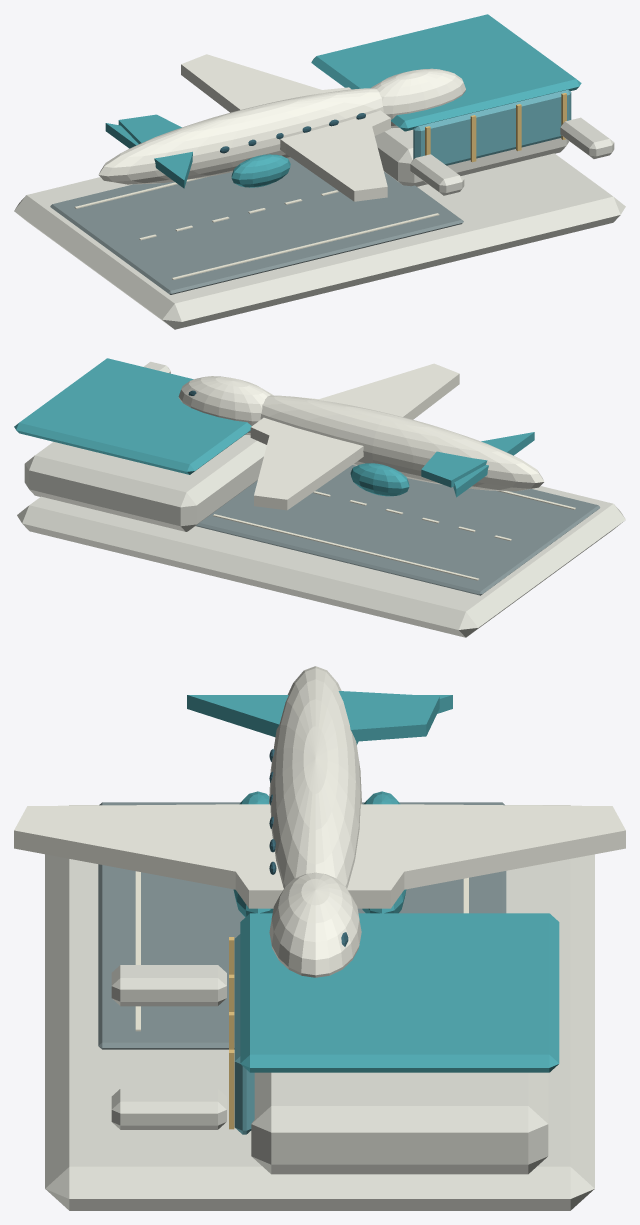
File: world-tour-airport.glb
The picture shows the model from 3 angles, top to bottom: view 1: azimuth 30°, elevation 25°; view 2: azimuth 150°, elevation 25°; view 3: azimuth 270°, elevation 25°; orthographic projection. The views are drawn at different scales.
Visible parts, largest first — view 1: Airport_Podium, Airport_Runway, Terminal_Roof, Airliner_Fuselage, Airliner_Main_Wing, Terminal_Glass_Front, Terminal_Base, Airliner_Nose, Airliner_Engine, Jet_Bridge, Jet_Bridge.001, Airliner_Tail_Wing (+2 smaller); view 2: Airport_Runway, Airport_Podium, Terminal_Roof, Terminal_Base, Airliner_Fuselage, Airliner_Main_Wing, Airliner_Nose, Airliner_Engine.001, Airliner_Vertical_Tail, Airliner_Tail_Wing, Runway_Edge_Marking.001; view 3: Airport_Podium, Terminal_Roof, Airliner_Main_Wing, Terminal_Base, Airport_Runway, Airliner_Fuselage, Airliner_Nose, Jet_Bridge, Jet_Bridge.001, Airliner_Vertical_Tail, Airliner_Tail_Wing, Terminal_Glass_Front.
Part boxes in pixels (x1,y1,x2,y2): Airport_Podium: (14,153,625,329); Airport_Runway: (50,158,463,294); Terminal_Roof: (311,14,581,131); Airliner_Fuselage: (98,88,383,184); Airliner_Main_Wing: (181,54,390,201); Terminal_Glass_Front: (413,89,571,165); Terminal_Base: (374,128,568,186); Airliner_Nose: (371,68,465,128); Airliner_Engine: (231,154,290,187); Jet_Bridge: (410,154,464,195); Jet_Bridge.001: (560,117,614,158); Airliner_Tail_Wing: (105,123,192,188); Airport_Runway: (196,465,600,595); Airport_Podium: (17,486,625,637); Terminal_Roof: (14,358,251,474); Terminal_Base: (24,435,266,531); Airliner_Fuselage: (260,395,544,491); Airliner_Main_Wing: (250,363,459,510); Airliner_Nose: (178,376,273,435); Airliner_Engine.001: (350,463,409,496); Airliner_Vertical_Tail: (421,451,487,487); Airliner_Tail_Wing: (453,432,534,497); Runway_Edge_Marking.001: (213,514,479,580); Airport_Podium: (45,805,594,1210); Terminal_Roof: (240,913,559,1072); Airliner_Main_Wing: (14,804,625,908); Terminal_Base: (251,1072,548,1174); Airport_Runway: (98,802,506,1049); Airliner_Fuselage: (269,666,361,888); Airliner_Nose: (269,872,361,977); Jet_Bridge: (111,965,226,1006); Jet_Bridge.001: (111,1088,226,1129); Airliner_Vertical_Tail: (338,691,439,741); Airliner_Tail_Wing: (187,695,452,744); Terminal_Glass_Front: (234,934,254,1134).
Size of the model in its own units: 2.08 by 0.545 by 1.38.
